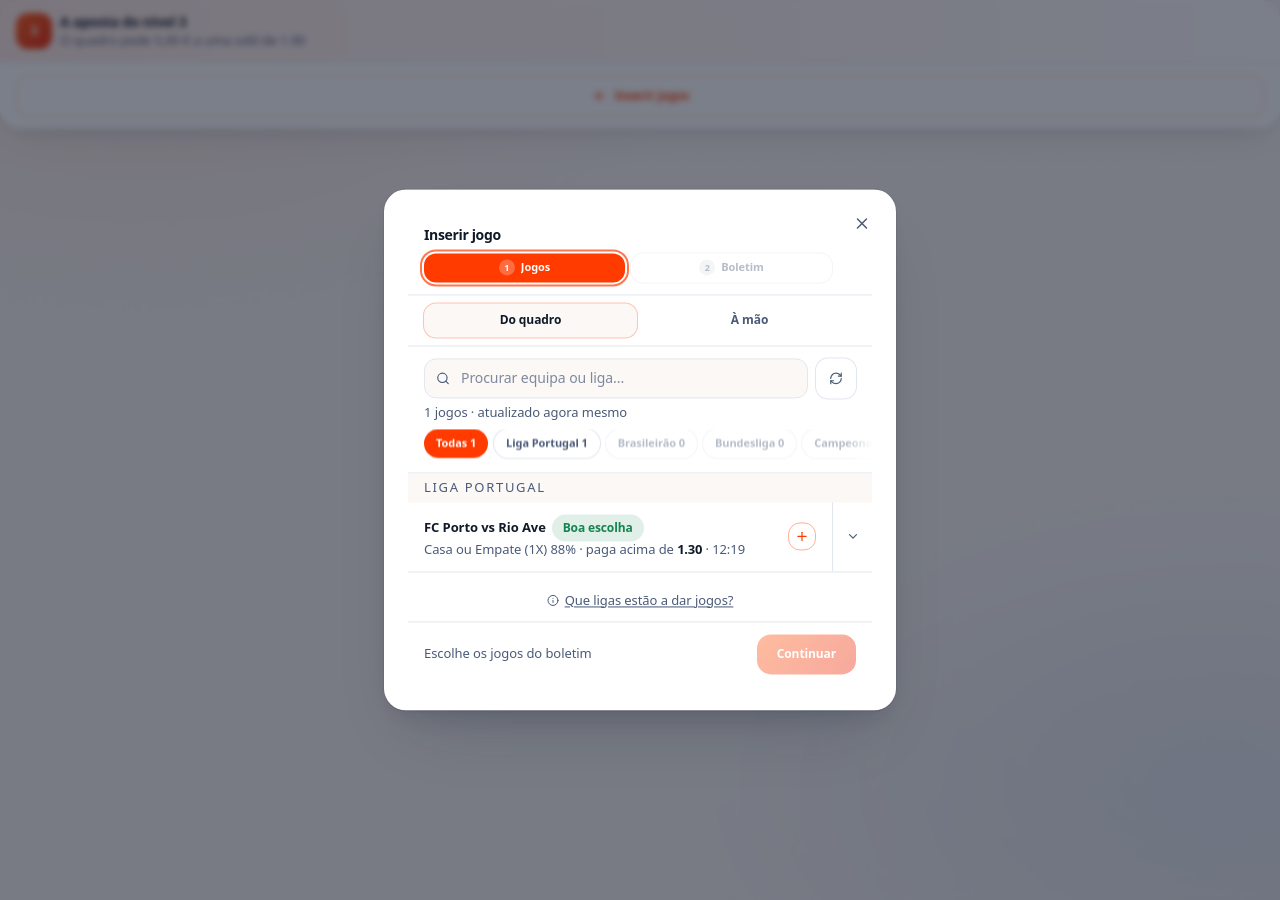
Scenario: registering a bet from the games pop-up › puts the game on the slip with one tap, on the market the model likes
This screenshot has width=1280, height=900.
What coordinates should you click on to do the following:
click the button with aria-label "Juntar FC Porto vs Rio Ave em Casa ou Empate (1X)"
I would click on:
 (620, 537)
Its box is 408,502 -> 832,571.
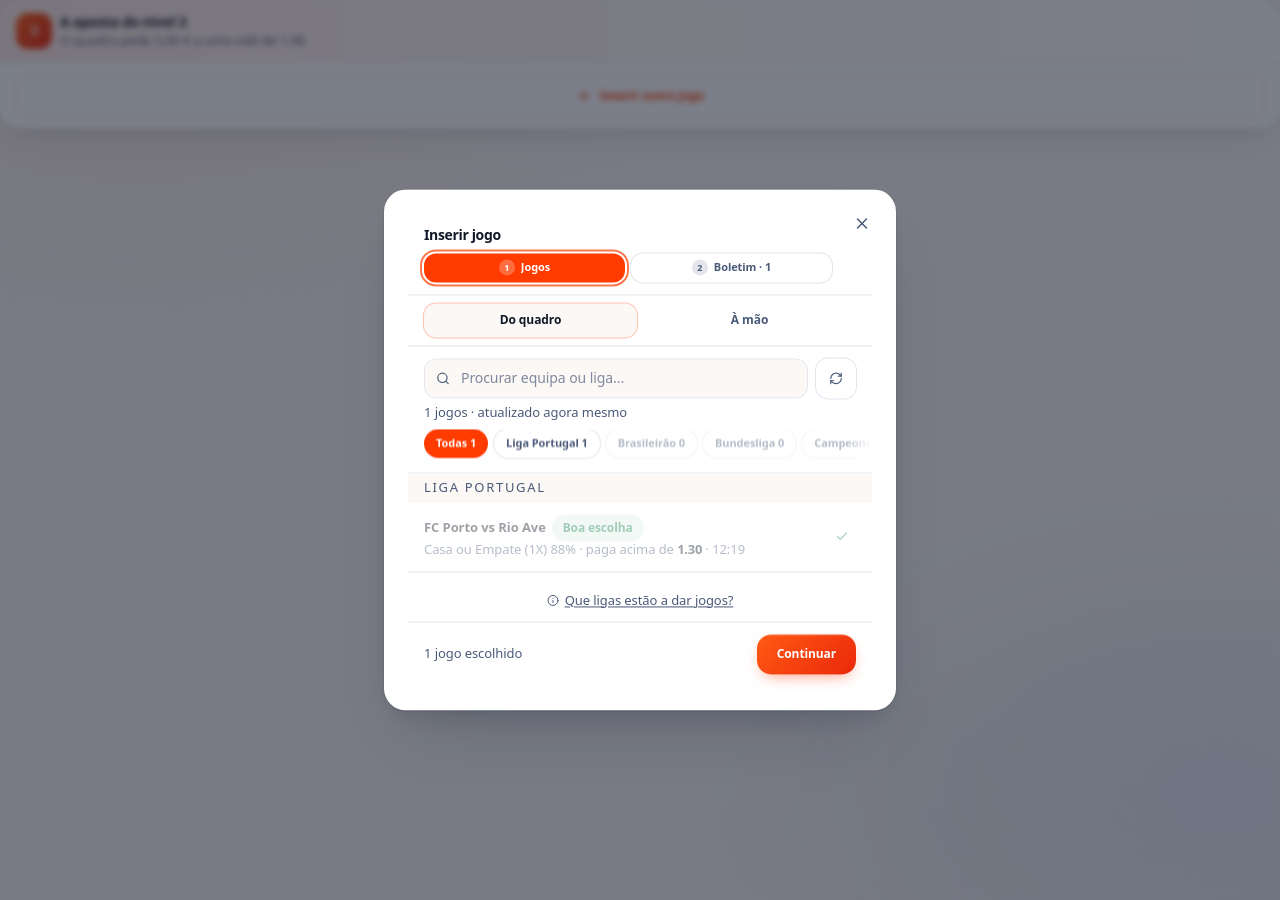
Expected: the text "1 jogo escolhido" is shown, 424,645 -> 522,663
What coordinates should you click on to do the following:
click the button "Continuar"
I would click on:
 (806, 655)
Its box is 757,635 -> 856,675.
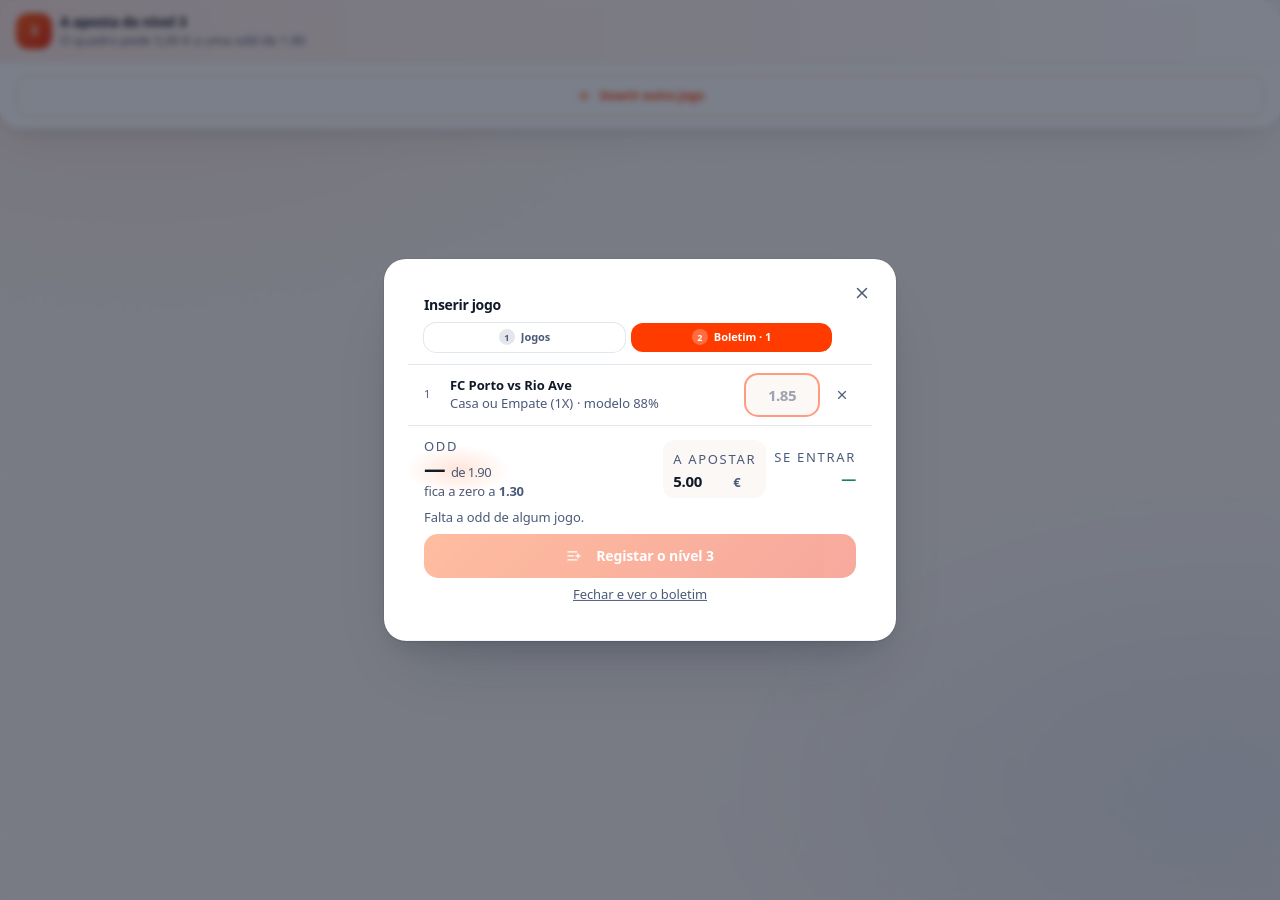
Expected: the field named "Odd de FC Porto vs Rio Ave" is shown, 746,374 -> 818,414
